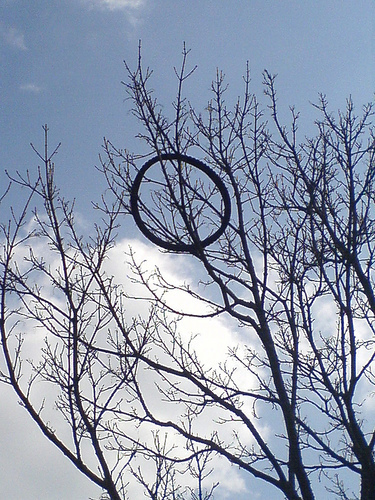litter: (132, 152, 231, 254)
